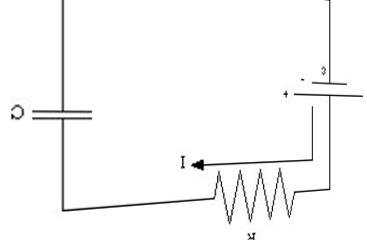Battery: (271, 58, 365, 124)
